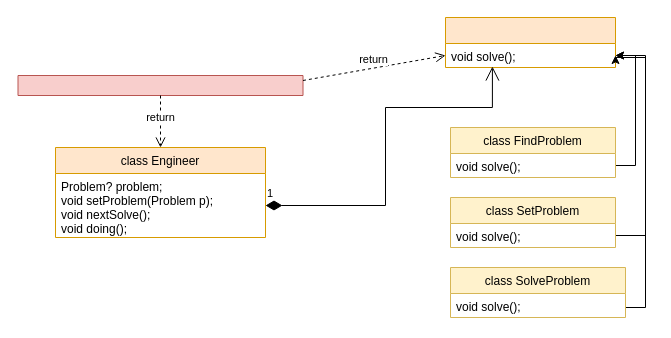
Image size: 671x338. Some labels were removed from this diagram. The shapes that lost their labels are listed below. From the top down, each one's box as (x1, y1, x2, y2) in pixels, then its label:
(444, 16, 616, 68): abstract class Problem
(17, 74, 303, 96): void main()
